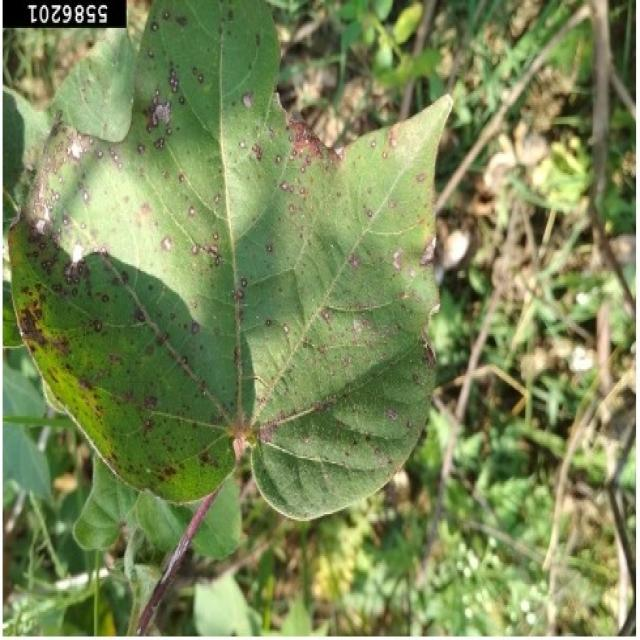Bacterial Blight: (22, 139, 225, 455)
